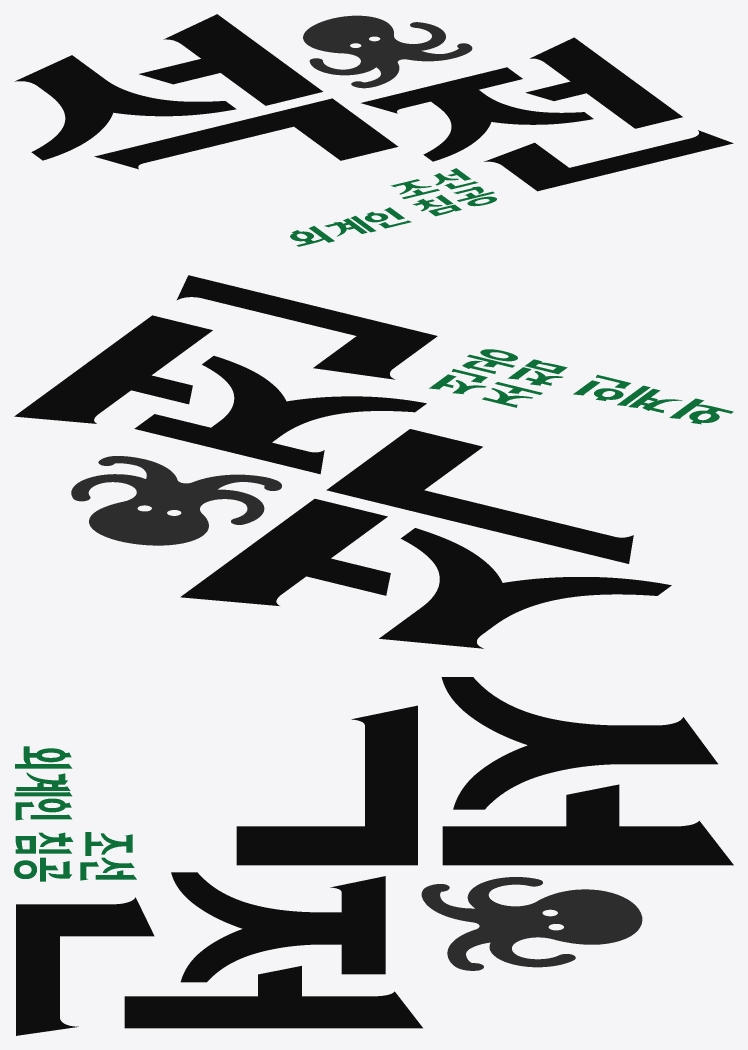
The model's file is title.fbx.
3 renders of one model, top to bottom at view 1: azimuth 30°, elevation 25°; view 2: azimuth 150°, elevation 25°; view 3: azimuth 270°, elevation 25°, orthographic. The views are drawn at different scales.
Parts seen in each view (by area): view 1: Curve.001, Curve, Curve.002; view 2: Curve.001, Curve, Curve.002; view 3: Curve.001, Curve, Curve.002.
Part boxes in pixels (<box>): Curve.001: <box>14,14,733,191</box>; Curve: <box>303,15,472,88</box>; Curve.002: <box>290,168,496,246</box>; Curve.001: <box>14,275,671,648</box>; Curve: <box>71,456,281,545</box>; Curve.002: <box>429,349,733,424</box>; Curve.001: <box>16,677,733,1035</box>; Curve: <box>421,877,642,970</box>; Curve.002: <box>14,746,136,881</box>.
Bounding box in the file's own units: 44.56 × 6.16e-06 × 37.78.
